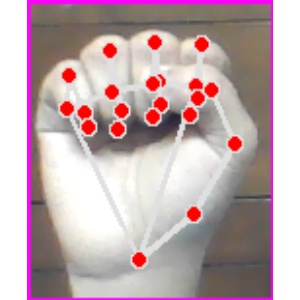S: (30, 2, 270, 300)
